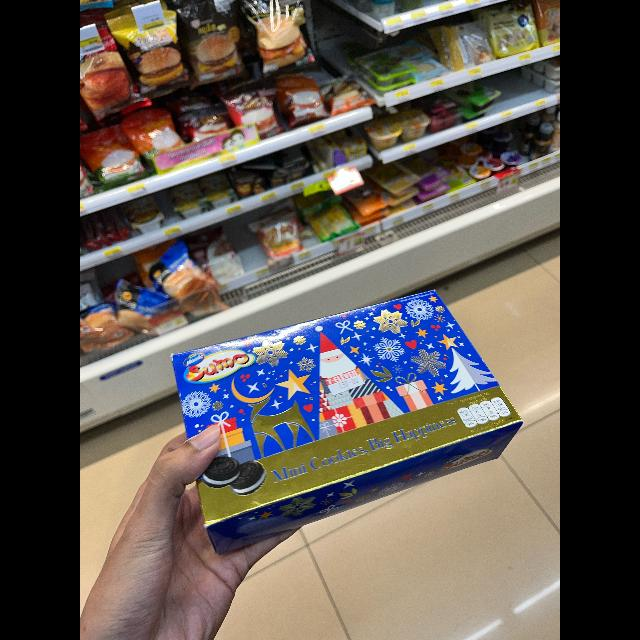cardboard_box: (174, 276, 520, 568)
